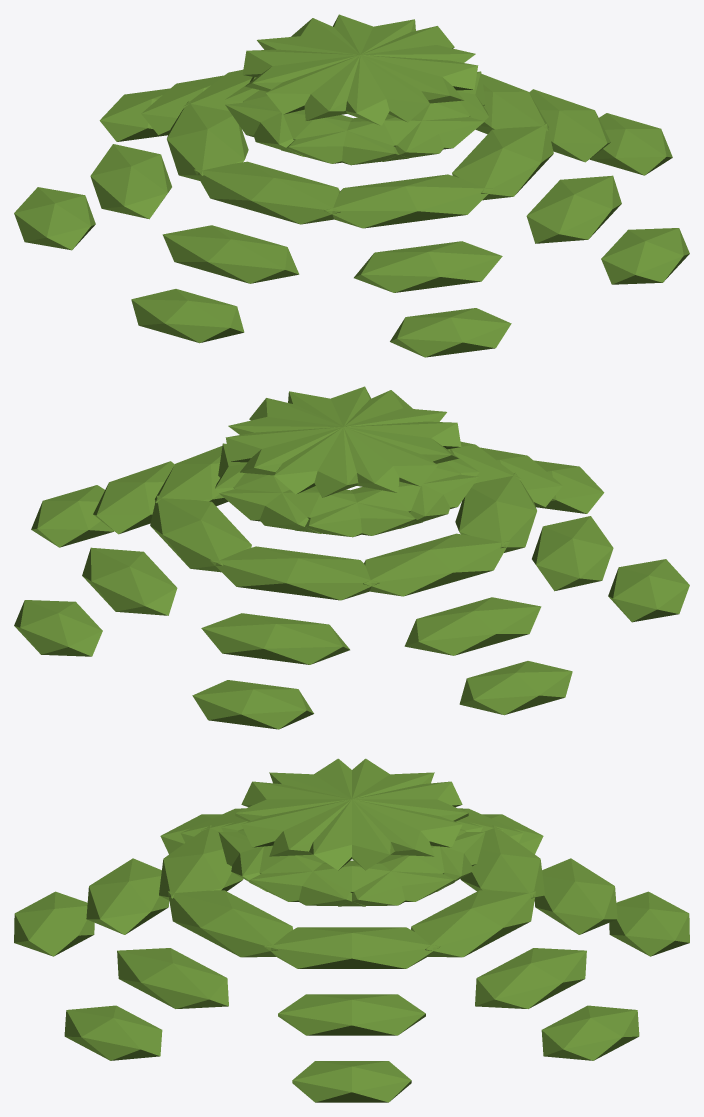
File: foliage_fern.glb
The picture shows the model from 3 angles, top to bottom: view 1: azimuth 30°, elevation 25°; view 2: azimuth 150°, elevation 25°; view 3: azimuth 270°, elevation 25°; orthographic projection.
Parts seen in each view (by area): view 1: foliage_fern; view 2: foliage_fern; view 3: foliage_fern.
Part boxes in pixels (left/top/right/bottom): foliage_fern: left=14, top=14, right=689, bottom=357; foliage_fern: left=14, top=386, right=689, bottom=729; foliage_fern: left=14, top=758, right=689, bottom=1102.
Size of the model in its own units: 0.8742 by 0.244 by 0.8861.
